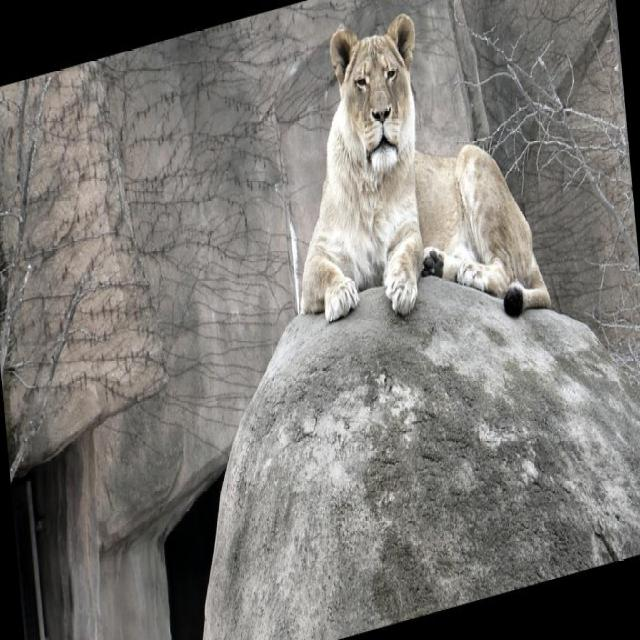Lion: (276, 0, 552, 376)
